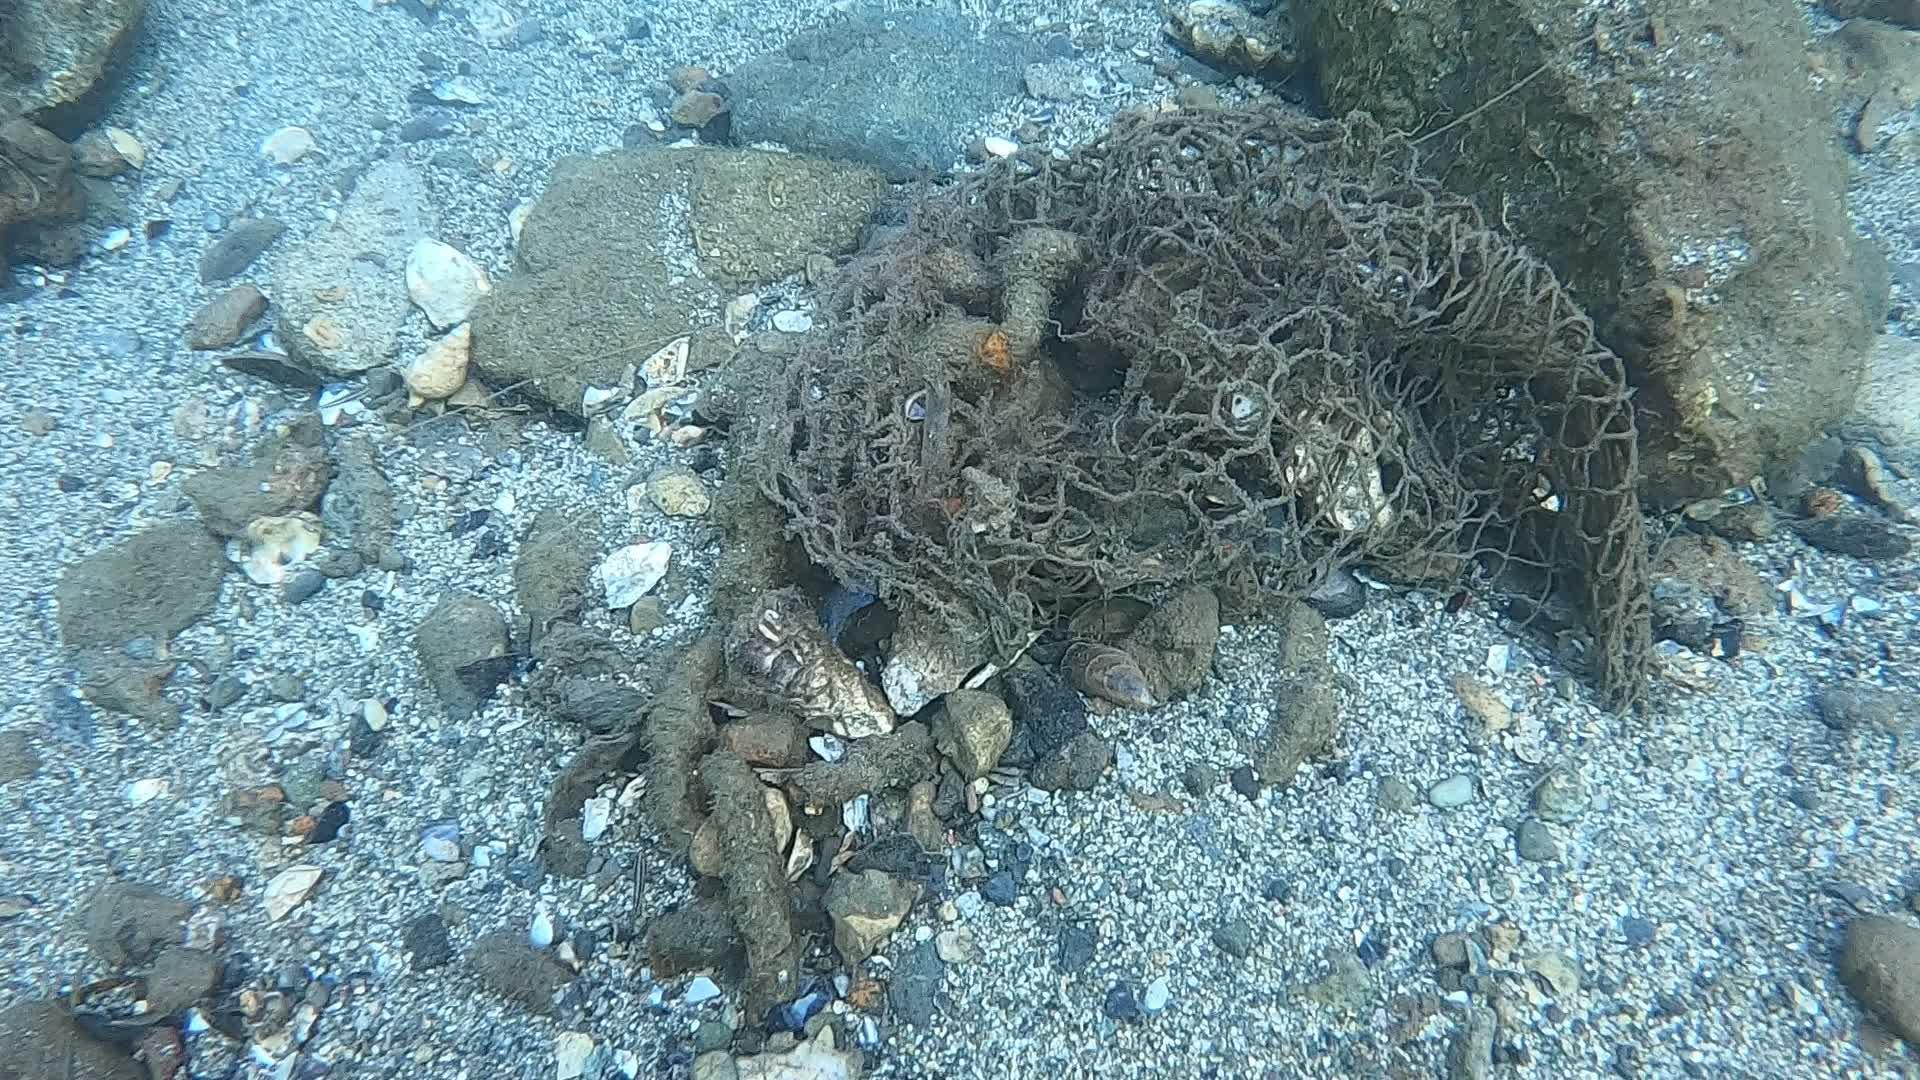fish net: (754, 105, 1640, 622)
